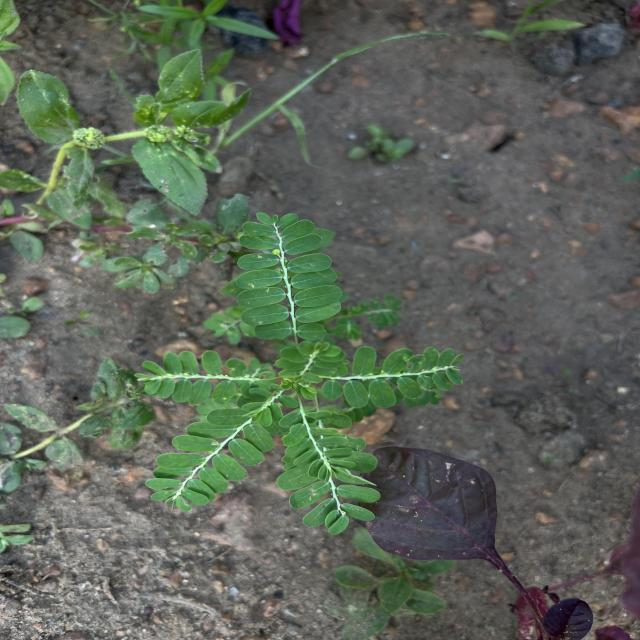Phyllanthus niruri: (234, 208, 344, 346), (144, 406, 276, 514), (274, 406, 382, 537), (318, 343, 470, 411), (130, 349, 270, 407)
